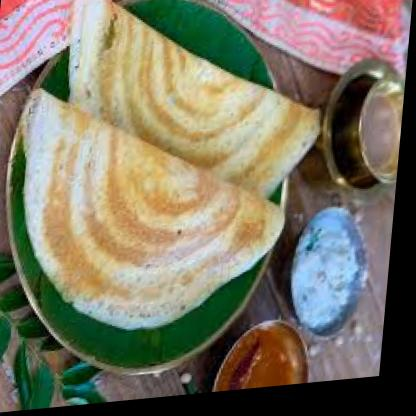dosa: (7, 71, 299, 342), (58, 0, 334, 219)
